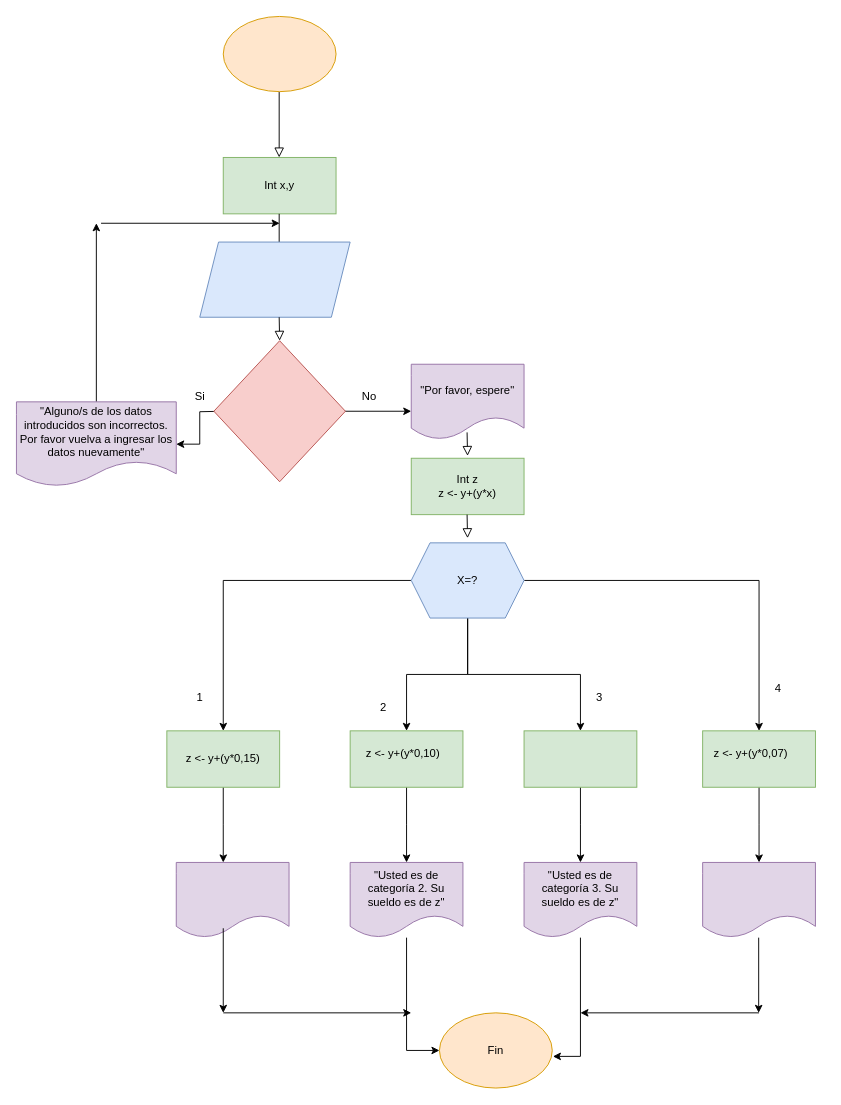
The diagram is 841 pixels wide and 1105 high, and some of its shapes have lost their labels. Here are the shapes that lost their labels. From the top down, the box of each, then its label:
(222, 16, 336, 92): Inicio
(199, 241, 350, 317): "Introduzca su categoría (x) y su sueldo (y) por favor" x,y
(213, 340, 345, 482): ¿x>4, x<1 or y<0?
(523, 730, 637, 787): z <- y+(y*0,08)
(175, 862, 289, 938): "Usted es de categoría 1. Su sueldo es de z"
(702, 862, 815, 938): "Usted es de categoría 4. Su sueldo es de z"
